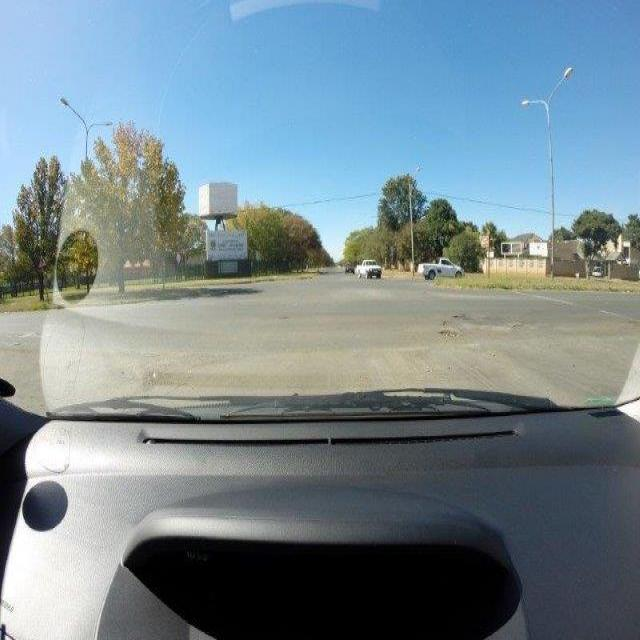lubang: (442, 326, 462, 342), (451, 309, 467, 324)
